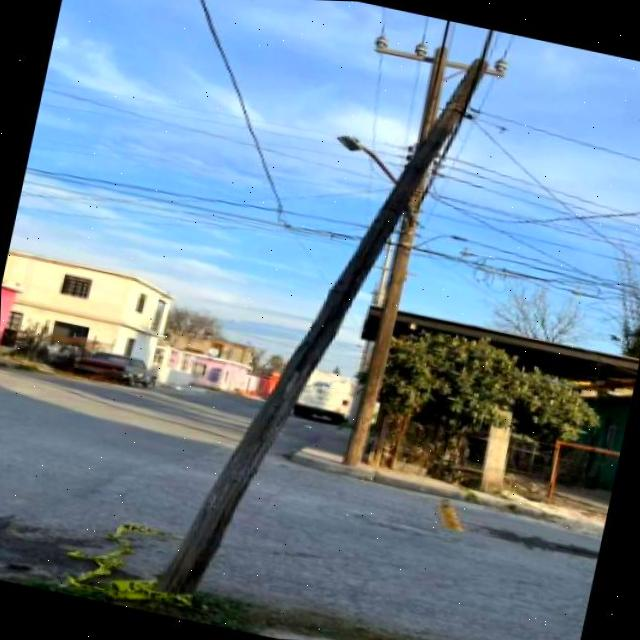Broken Pole: (155, 59, 496, 598)
